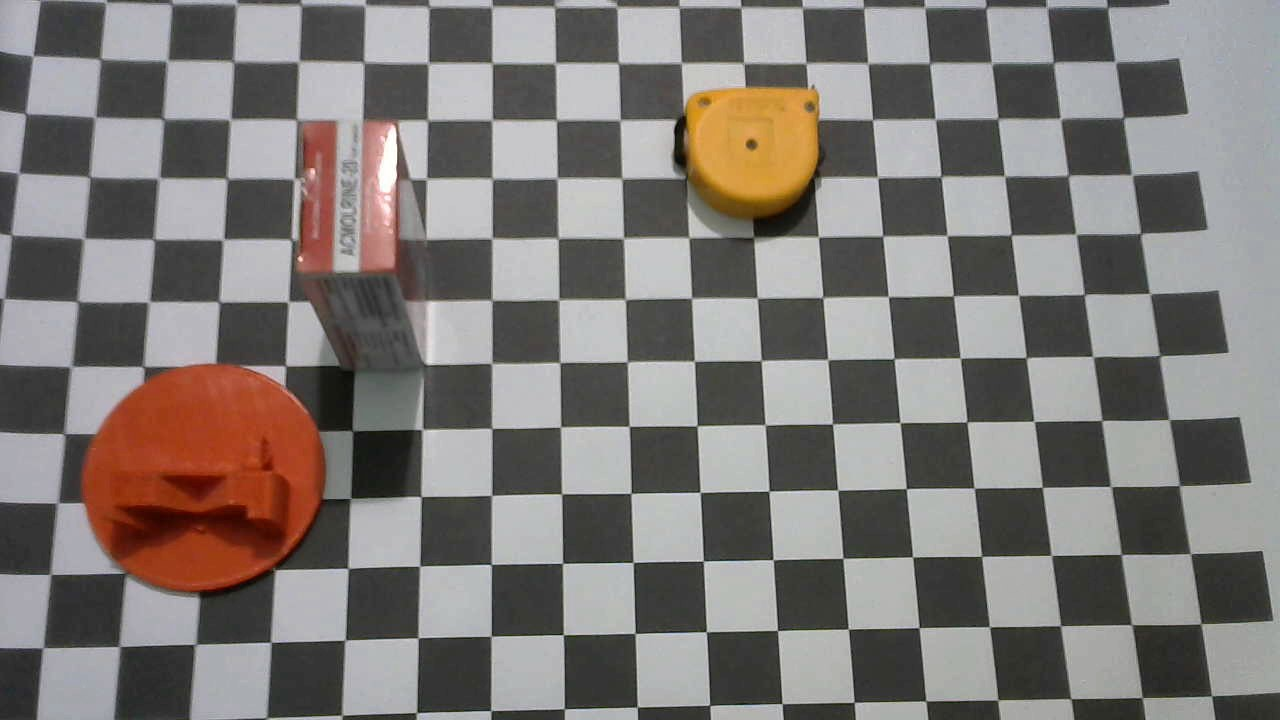blue: (673, 85, 826, 221)
green: (77, 363, 325, 596)
red: (292, 118, 430, 366)
